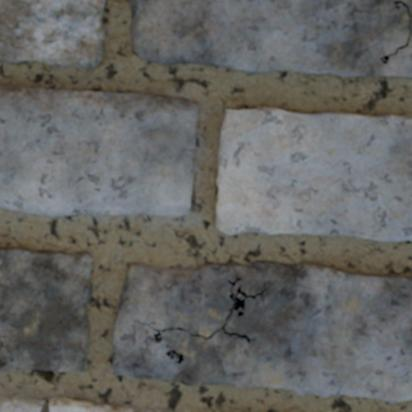brick: (113, 261, 411, 402), (216, 107, 411, 240), (130, 0, 411, 77), (0, 248, 92, 371), (0, 0, 104, 69), (404, 0, 411, 13)
broken_brick: (0, 84, 198, 216), (50, 396, 174, 411), (0, 395, 44, 411)
crack: (379, 0, 411, 64), (32, 368, 55, 384), (38, 393, 50, 411), (47, 63, 52, 68)
